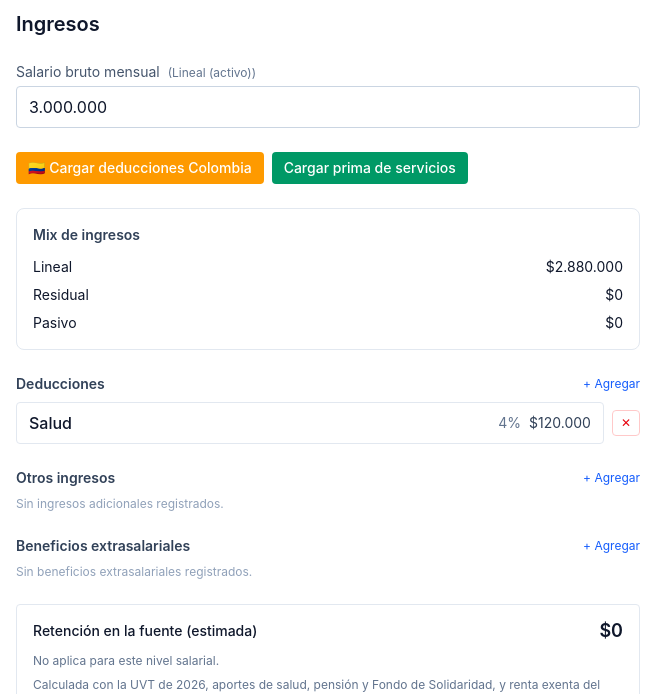
it: IncomeView (AC-2.5 TC-C-009) › AC-2.5 TC-C-009: changing grossSalary input recomputes deduction equivalent label
Expected: the text "$120.000" is shown, [529,413,591,433]
Replace the text in the field labelled "Salario bruto mensual (Lineal (activo))" with "6000000": x=328, y=107 [16,86,640,128]
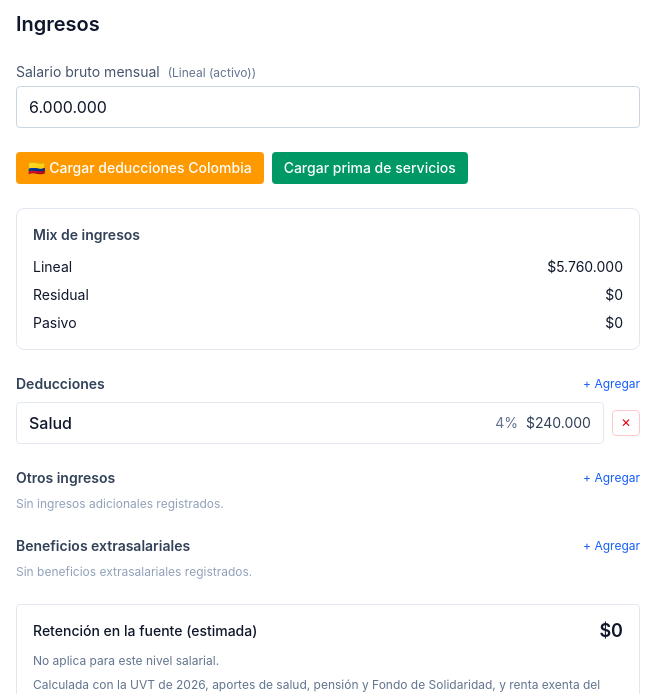
Expected: the text "$240.000" is shown, [526,413,591,433]
